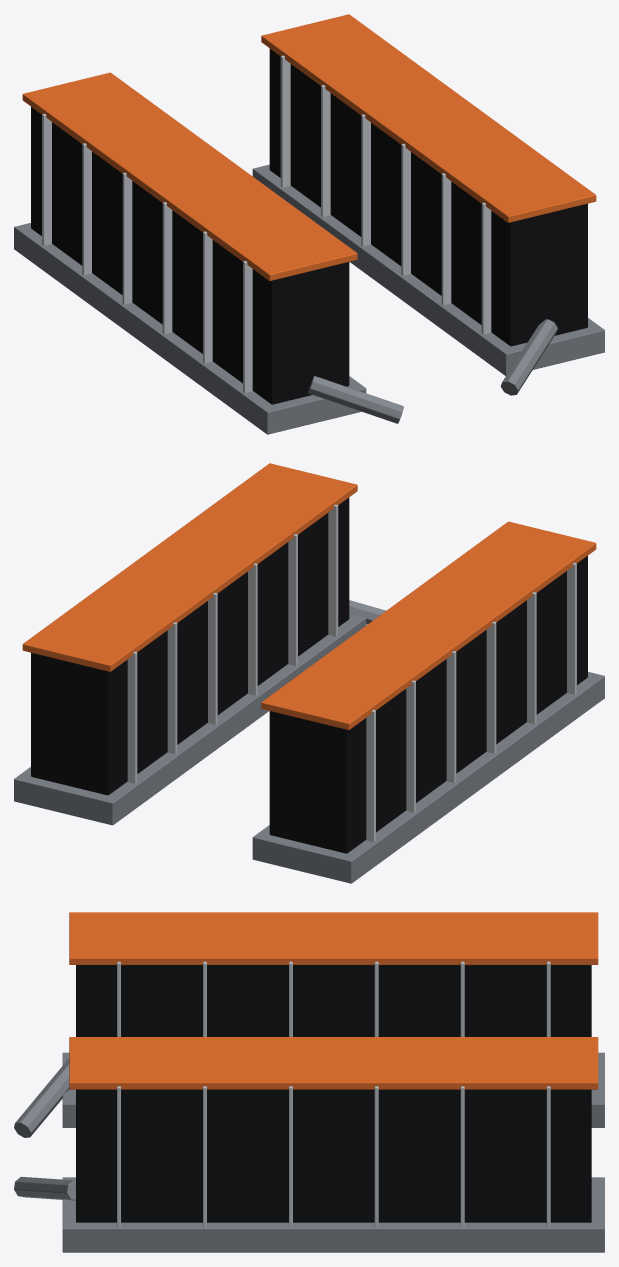
The model's file is bastion_cooling_radiator.fbx.
3 views of the same model, one above another, from view 1: azimuth 30°, elevation 25°; view 2: azimuth 150°, elevation 25°; view 3: azimuth 270°, elevation 25° (orthographic). The views are drawn at different scales.
Parts seen in each view (by area): view 1: Cooling_Radiator; view 2: Cooling_Radiator; view 3: Cooling_Radiator.
Boxes of the visible parts, x1,y1,x2,y2 form: Cooling_Radiator: (14, 14, 604, 434); Cooling_Radiator: (14, 463, 604, 883); Cooling_Radiator: (14, 912, 604, 1252).
Bounding box in the file's own units: 62.3 × 28.05 × 88.27.
